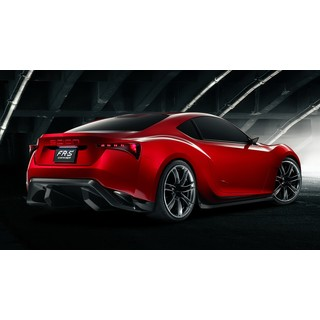car: (24, 111, 302, 222)
